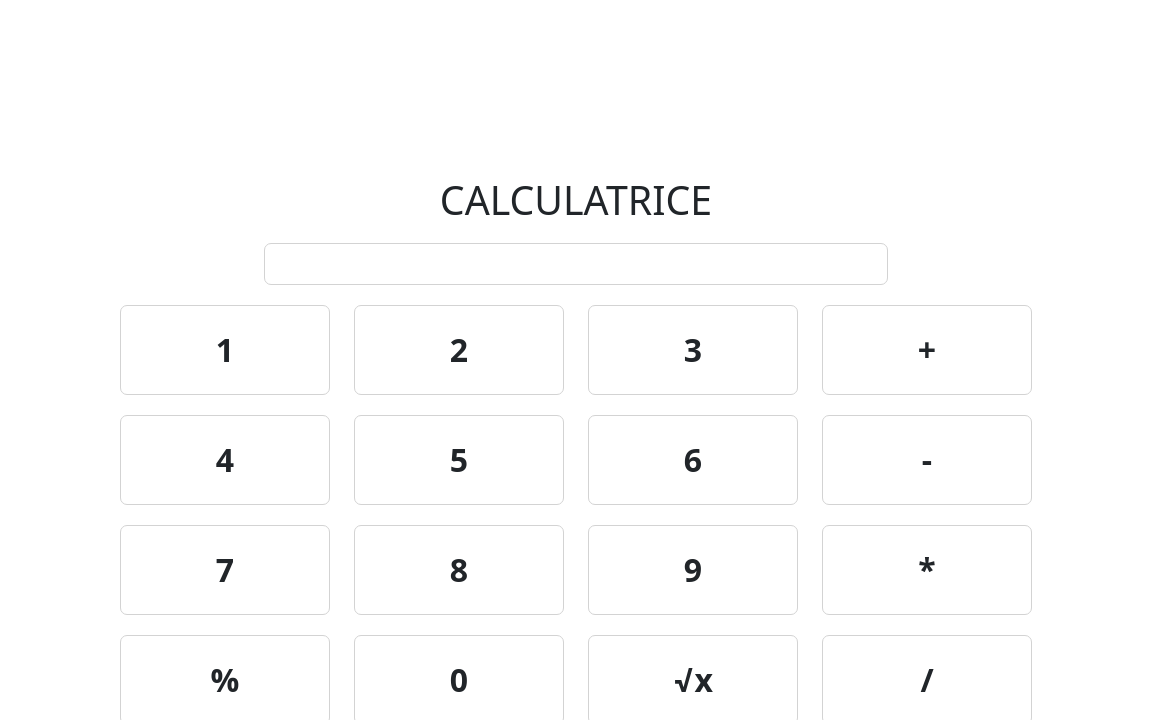
Test: addition fonctional
This screenshot has width=1152, height=720.
Click the text with class "touch" showing "1". click: (225, 350)
box: [120,305,330,395]
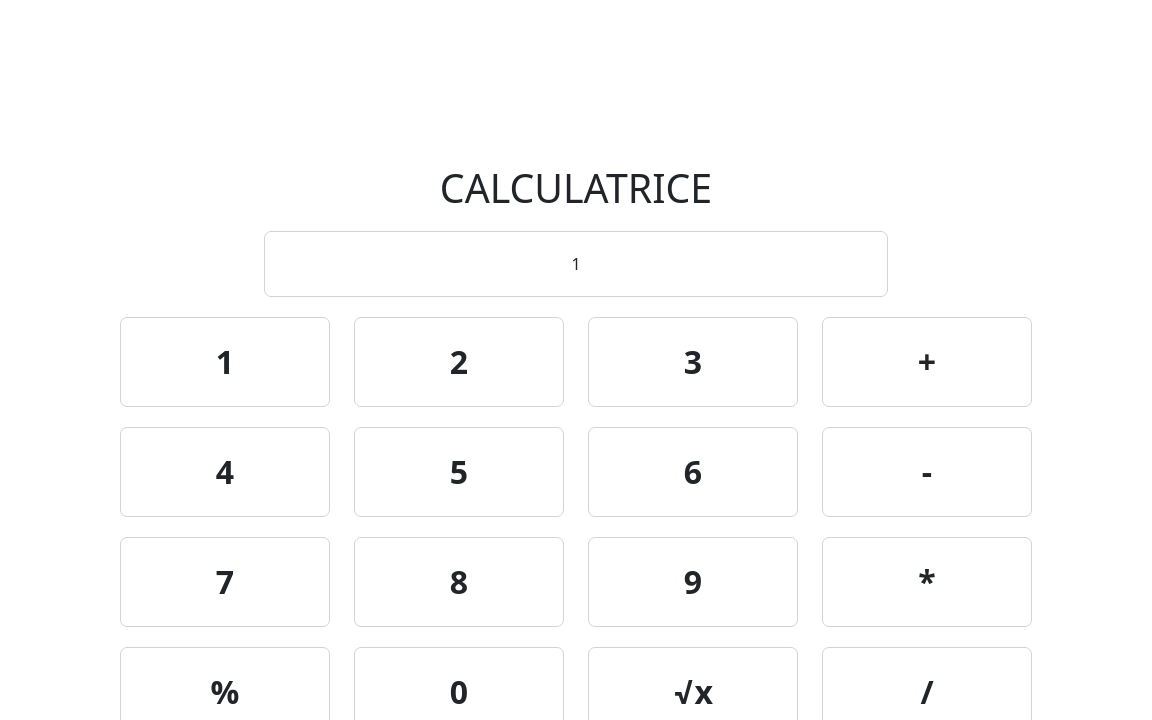
Click the text with class "touch" showing "2". click: (459, 362)
box: [354,317,564,407]
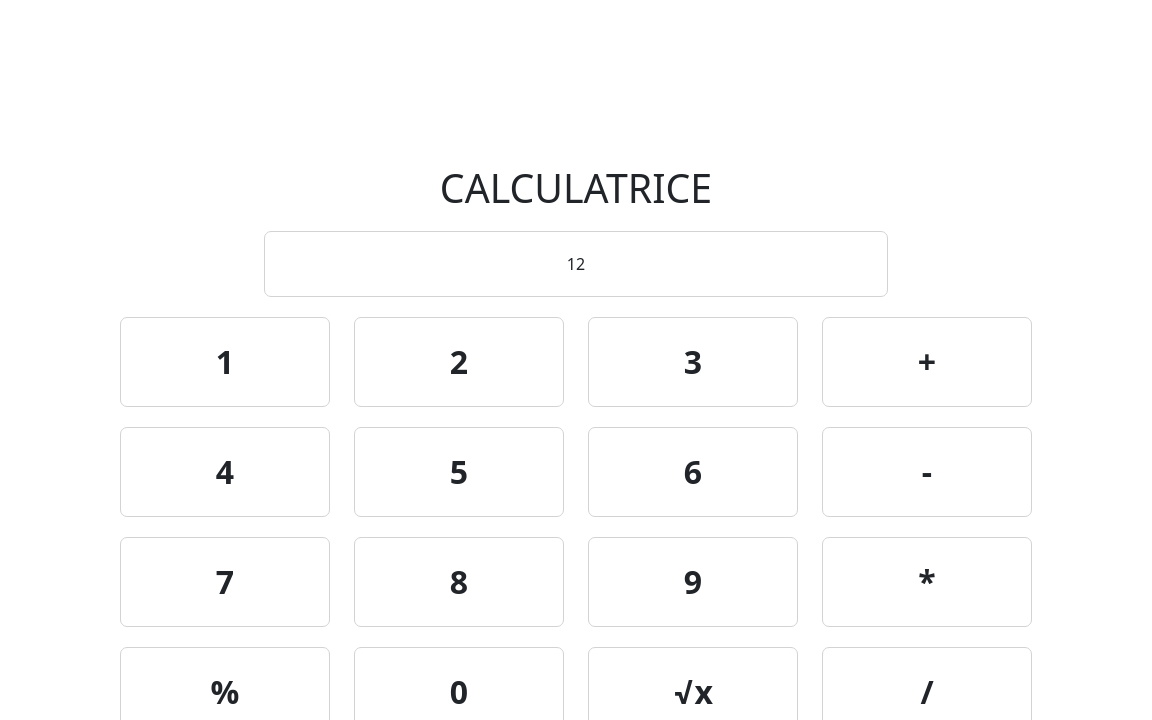
Click the text with class "touch" showing "+". click: (927, 362)
box: [822,317,1032,407]
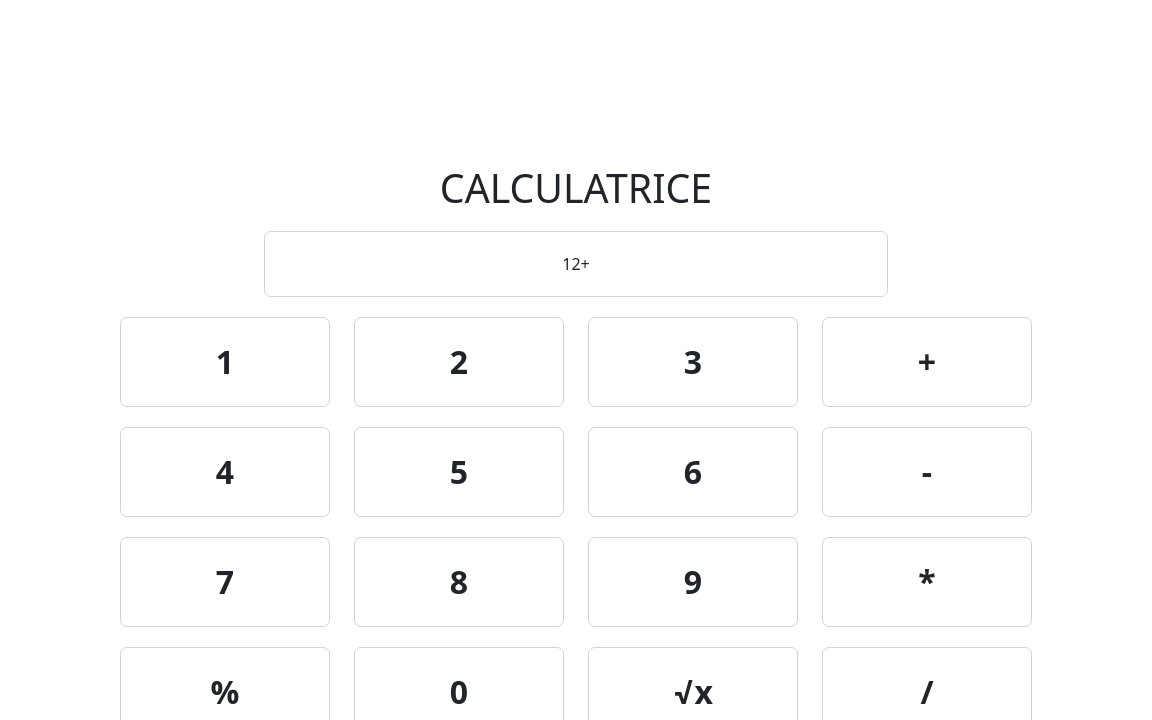
Click the text with class "touch" showing "1". click: (225, 362)
box: [120,317,330,407]
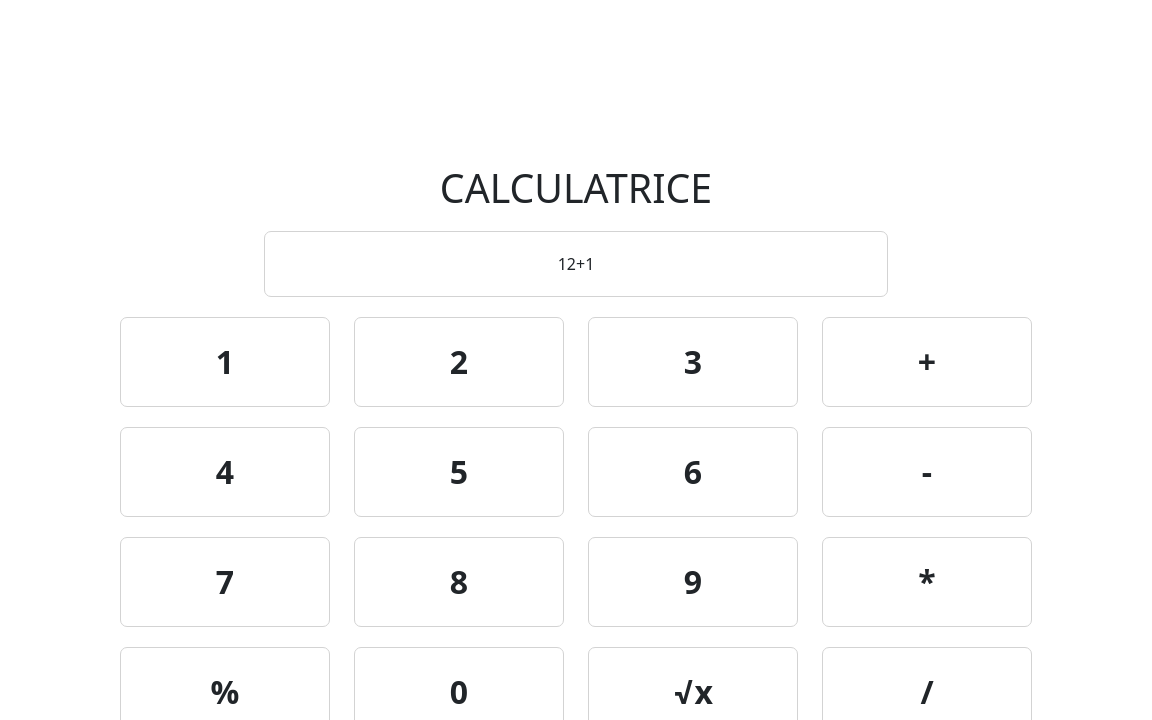
Click the text with class "touch" showing "2". click: (459, 362)
box: [354,317,564,407]
(page scrolled)
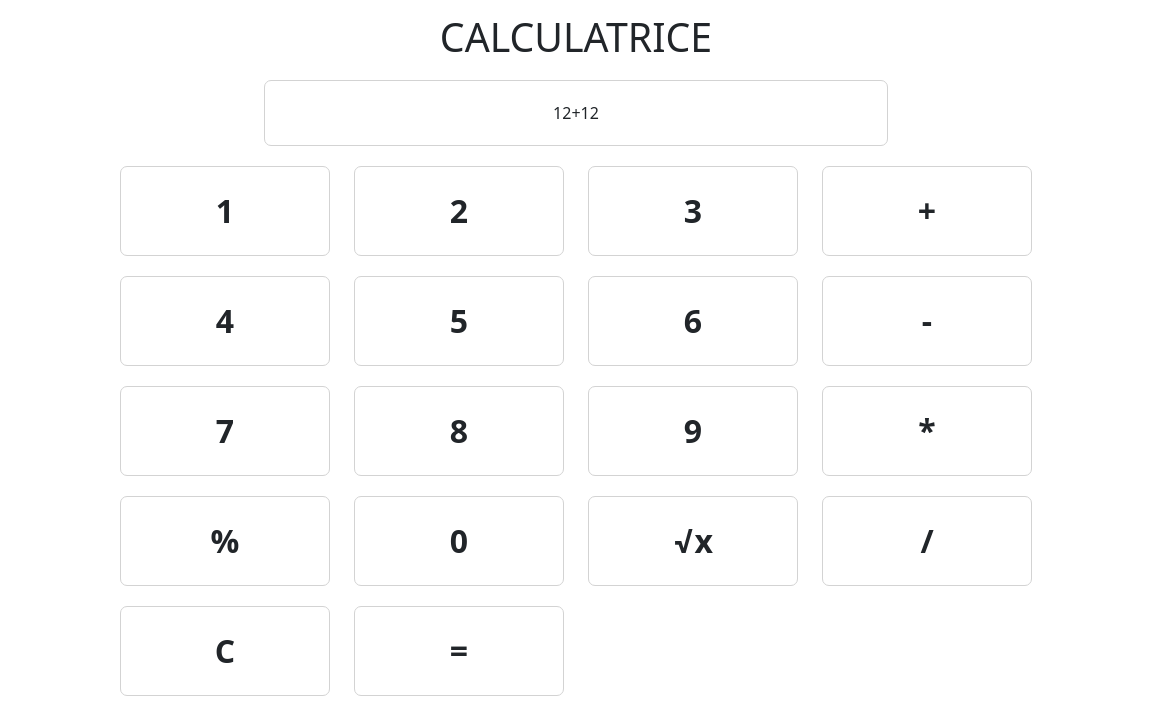
Click the text with class "touch" showing "=". click: (459, 651)
box: [354,606,564,696]
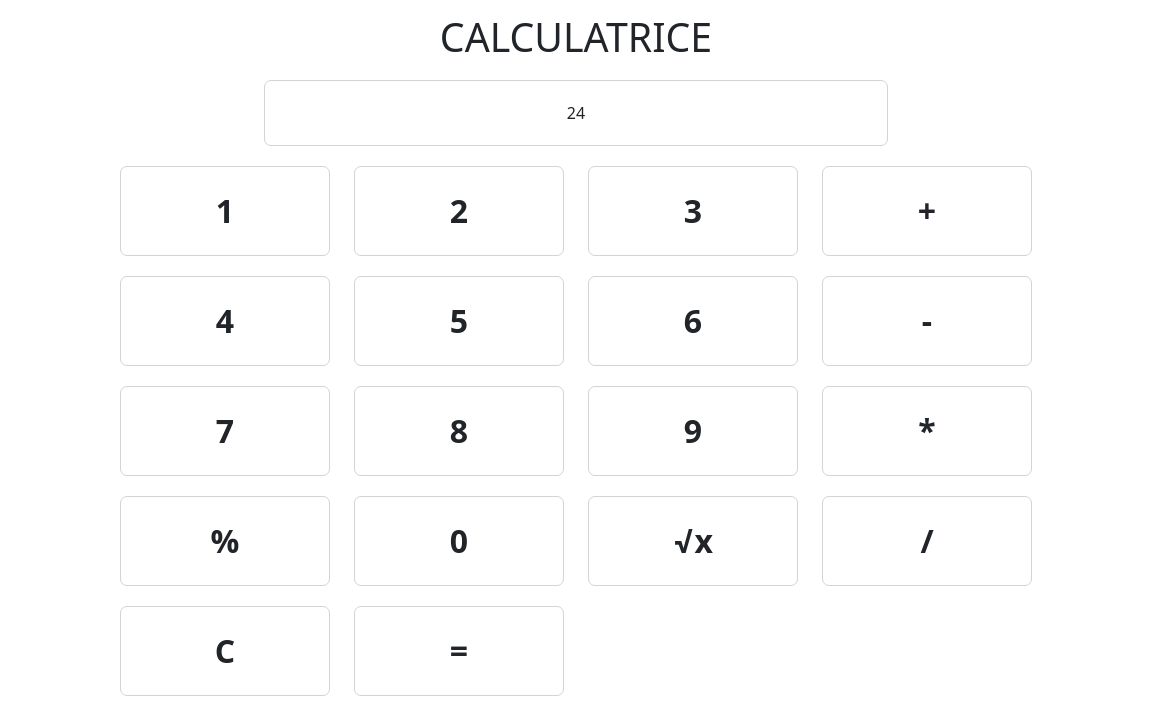
Check: the text with class "result" reads "24", box [567,102,585,124]
